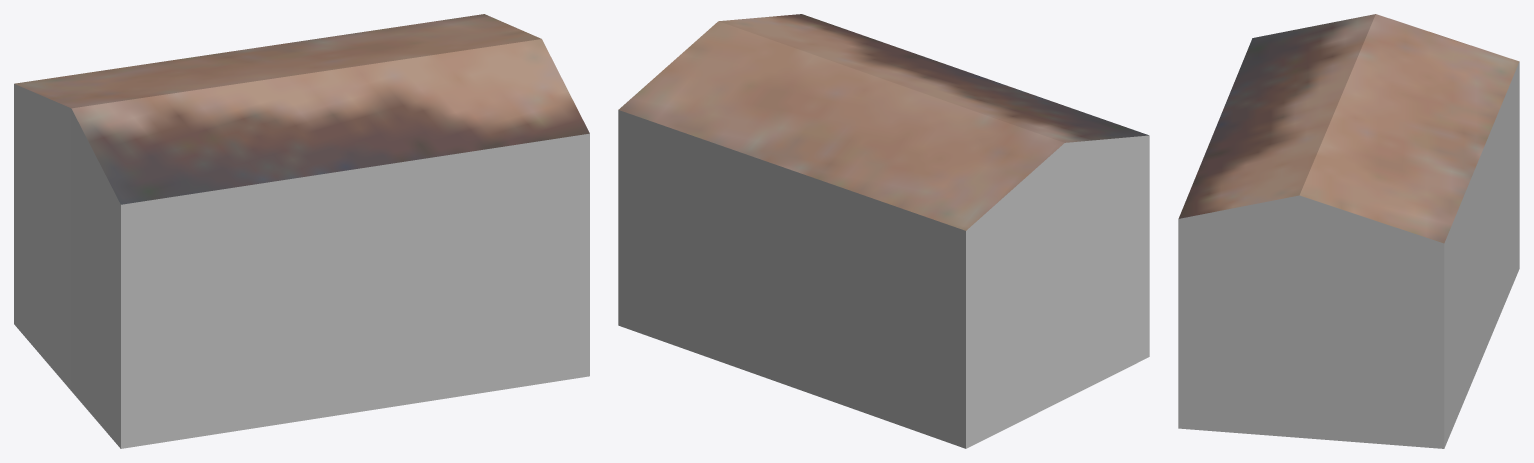
The model's file is DEBW_0010007TxaI.gltf.
The picture shows the model from 3 angles, left to right: view 1: azimuth 30°, elevation 25°; view 2: azimuth 150°, elevation 25°; view 3: azimuth 270°, elevation 25°; orthographic projection. The views are drawn at different scales.
Parts seen in each view (by area): view 1: Z_UP; view 2: Z_UP; view 3: Z_UP.
Boxes of the visible parts, box(x1,y1,x2,y2) form: Z_UP: box(14, 14, 589, 448); Z_UP: box(618, 14, 1149, 448); Z_UP: box(1178, 14, 1519, 448).
Size of the model in its own units: 7.55 by 4.3 by 5.44.
2 materials, 1 textured.
